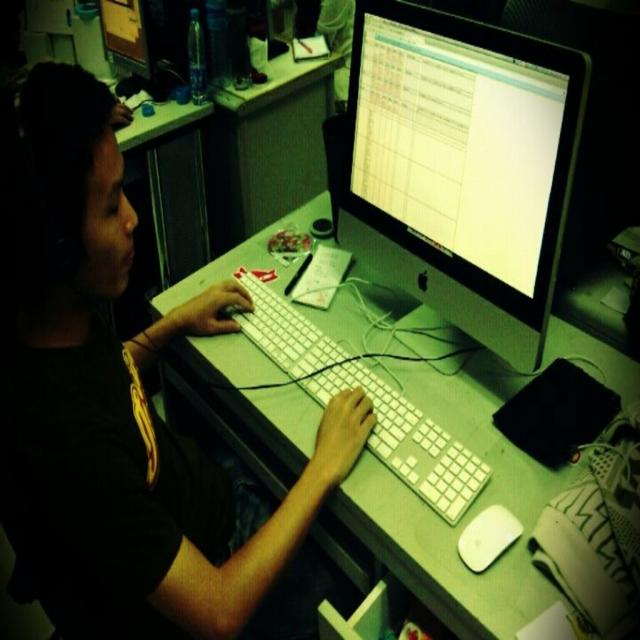desk: (95, 151, 593, 640)
keyboard: (225, 283, 491, 528)
mouse: (458, 503, 524, 574)
person: (4, 57, 363, 631)
tv: (345, 1, 592, 376)
